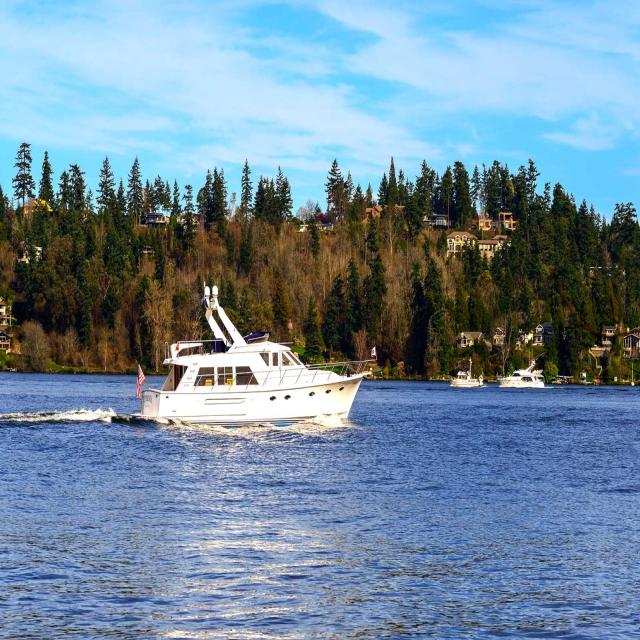houseboat: (141, 275, 372, 435)
